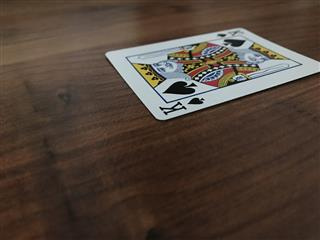KingOfSpades: (103, 26, 320, 120)
